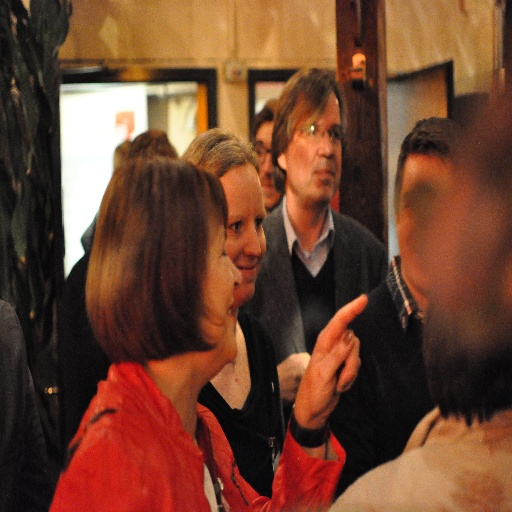hand: (296, 296, 372, 451), (278, 350, 311, 401)
